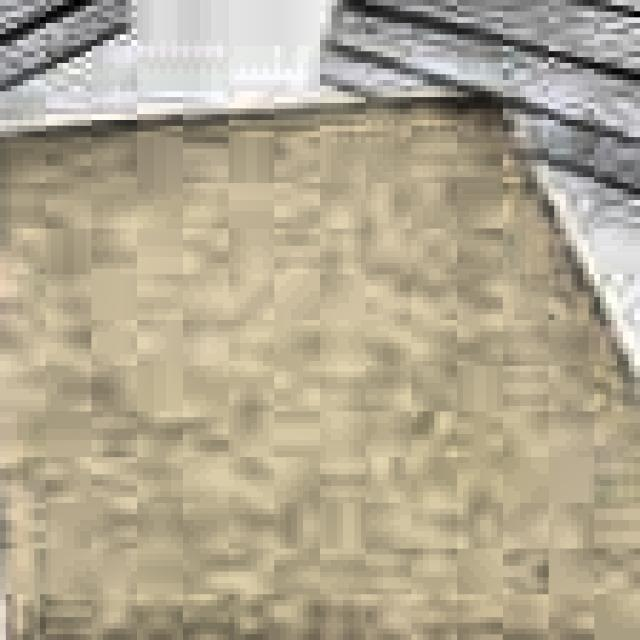paper: (0, 86, 640, 640)
